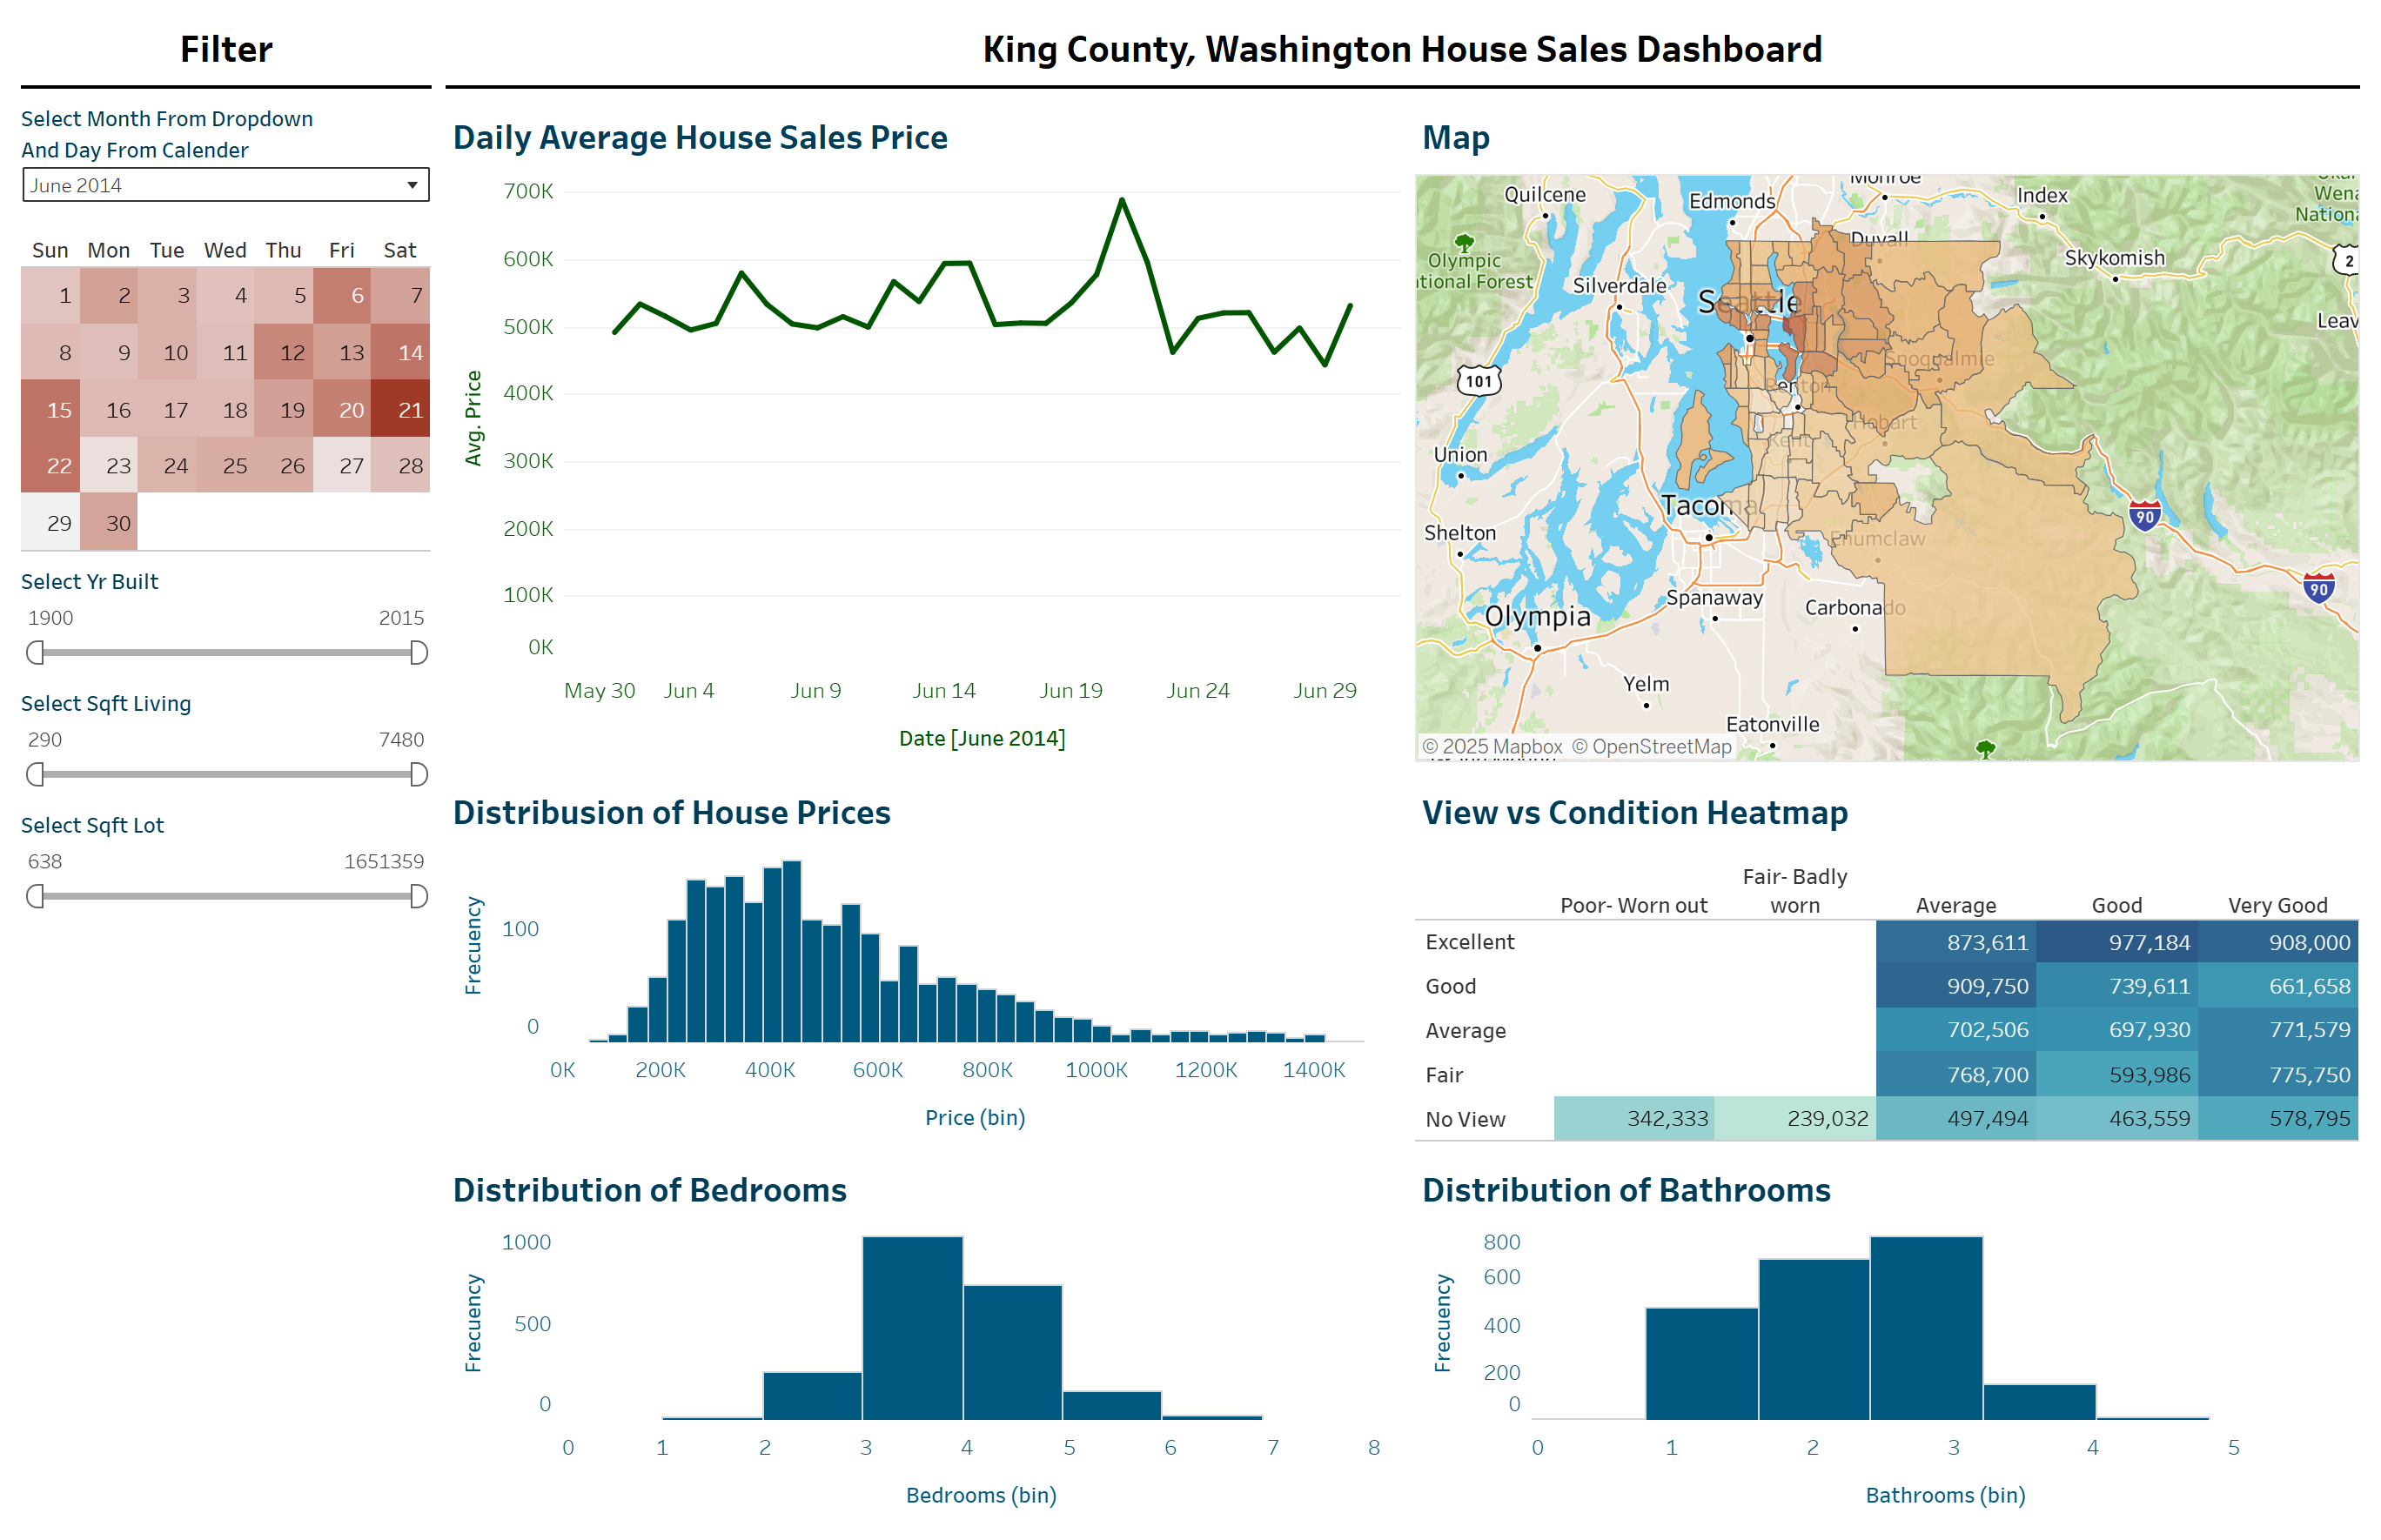

Layout of this report page (visuals, bound fields, positions):
{"tool":"tableau","page":{"name":"Dashboard 1","canvas":[1000,1000],"units":"permille","ordinal":0},"visuals":[{"type":"text","box":[5.9,10.4,178.6,48.2]},{"type":"text","box":[184.5,10.4,809.7,48.2]},{"type":"blank","box":[5.9,58.6,178.6,13]},{"type":"blank","box":[184.5,58.6,809.7,13]},{"type":"filter","title":"Calendar","param":"[federated.0v32thj1lilpr718dycmr1q0hicu].[my:date:ok]","box":[5.9,71.6,178.6,89.9]},{"type":"worksheet","title":"Line Chart","mark":"Automatic","rows":["price"],"cols":["date"],"box":[184.5,71.6,407,428.4]},{"type":"worksheet","title":"Map","mark":"Automatic","box":[591.5,71.6,402.6,428.4]},{"type":"worksheet","title":"Calendar","mark":"Square","rows":["date"],"cols":["date"],"box":[5.9,161.5,178.6,250]},{"type":"filter","title":"Calendar","param":"[federated.0v32thj1lilpr718dycmr1q0hicu].[none:yr_built:qk]","box":[5.9,411.5,178.6,89.9]},{"type":"worksheet","title":"HistHousePrice","mark":"Automatic","rows":["price"],"cols":["Price (bin)"],"box":[184.5,500,407,244.8]},{"type":"worksheet","title":"Heatmap","mark":"Square","rows":["view"],"cols":["condition"],"box":[591.5,500,402.6,244.8]},{"type":"filter","title":"Calendar","param":"[federated.0v32thj1lilpr718dycmr1q0hicu].[none:sqft_living:qk]","box":[5.9,501.3,178.6,89.9]},{"type":"filter","title":"Calendar","param":"[federated.0v32thj1lilpr718dycmr1q0hicu].[none:sqft_lot:qk]","box":[5.9,591.2,178.6,89.9]},{"type":"worksheet","title":"HistBedroom","mark":"Automatic","rows":["bedrooms"],"cols":["Bedrooms (bin)"],"box":[184.5,744.8,407,244.8]},{"type":"worksheet","title":"HistBathroom","mark":"Automatic","rows":["bathrooms"],"cols":["Bathrooms (bin)"],"box":[591.5,744.8,402.6,244.8]}]}

Visuals, with their boxes on the dashboard's canvas, which has no fixed pixel size, in thousandths of its width and height (x1, y1, x2, y2). These are canvas units, not pixel positions in the 2381x1540 screenshot, which may show the page scaled, cropped or inside an application window:
text: (6, 10, 184, 59)
text: (184, 10, 994, 59)
blank: (6, 59, 184, 72)
blank: (184, 59, 994, 72)
"Calendar" filter: (6, 72, 184, 162)
"Line Chart" worksheet: (184, 72, 592, 500)
"Map" worksheet: (592, 72, 994, 500)
"Calendar" worksheet (Square marks): (6, 162, 184, 412)
"Calendar" filter: (6, 412, 184, 501)
"HistHousePrice" worksheet: (184, 500, 592, 745)
"Heatmap" worksheet (Square marks): (592, 500, 994, 745)
"Calendar" filter: (6, 501, 184, 591)
"Calendar" filter: (6, 591, 184, 681)
"HistBedroom" worksheet: (184, 745, 592, 990)
"HistBathroom" worksheet: (592, 745, 994, 990)
